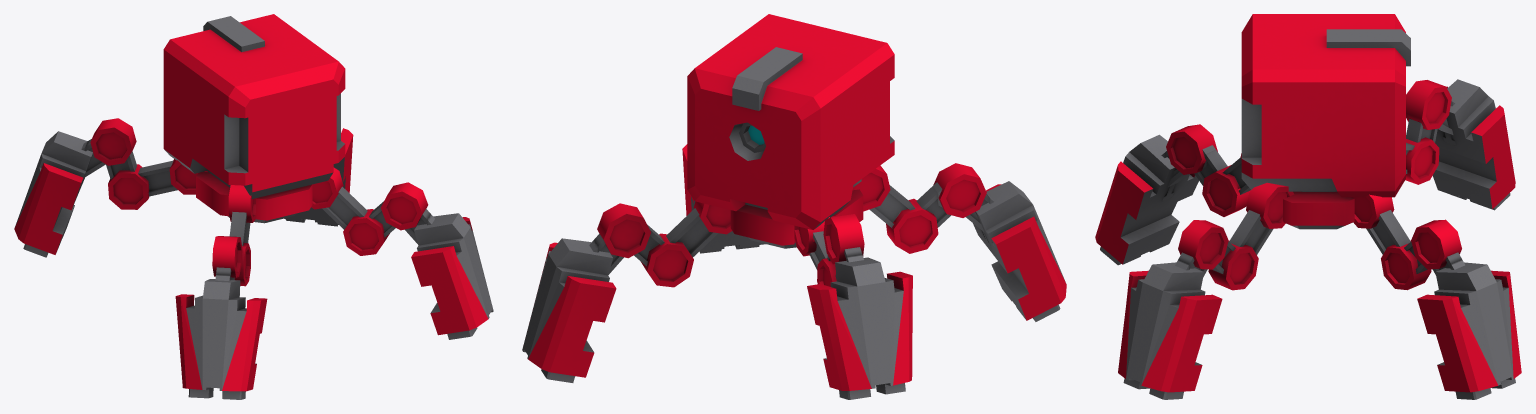
The model's file is Monster1_Move4.obj.
3 views of the same model, side by side, from view 1: azimuth 30°, elevation 25°; view 2: azimuth 150°, elevation 25°; view 3: azimuth 270°, elevation 25° (orthographic). The views are drawn at different scales.
Visible parts, largest first — view 1: Box006, Object021, Object017, Object025, Object028, Object020, Object018, Object027, Object019, Object026, Object022, Object024 (+2 smaller); view 2: Box006, Object025, Object013, Object021, Object016, Object023, Object024, Object015, Object014, Object022, Object028, Object017 (+1 smaller); view 3: Box006, Object013, Object017, Object021, Object025, Object018, Object016, Object020, Object023, Object014, Object028, Object024 (+3 smaller).
Part boxes in pixels (x1,y1,x2,y2): Box006: (163, 14, 345, 223); Object021: (175, 279, 267, 399); Object017: (411, 213, 493, 339); Object025: (14, 131, 92, 257); Object028: (81, 118, 136, 177); Object020: (381, 182, 434, 243); Object018: (311, 167, 367, 229); Object027: (106, 151, 149, 209); Object019: (343, 201, 395, 255); Object026: (138, 159, 207, 196); Object022: (228, 185, 256, 246); Object024: (212, 236, 242, 280); Box006: (687, 14, 894, 248); Object025: (807, 257, 912, 399); Object013: (522, 238, 616, 382); Object021: (973, 181, 1066, 321); Object016: (589, 203, 650, 274); Object023: (886, 182, 950, 253); Object024: (933, 163, 993, 232); Object015: (634, 224, 693, 287); Object014: (666, 201, 732, 257); Object022: (852, 165, 915, 228); Object028: (823, 214, 864, 264); Object017: (682, 144, 765, 253); Box006: (1241, 14, 1410, 229); Object013: (1417, 262, 1521, 399); Object017: (1118, 262, 1222, 399); Object021: (1095, 134, 1198, 265); Object025: (1432, 79, 1515, 210); Object018: (1229, 182, 1294, 254); Object016: (1411, 219, 1464, 274); Object020: (1175, 220, 1228, 276); Object023: (1194, 145, 1251, 216); Object014: (1351, 194, 1410, 254); Object028: (1406, 80, 1454, 134); Object024: (1161, 124, 1217, 186).
Size of the model in its own units: 151 by 113 by 153.
